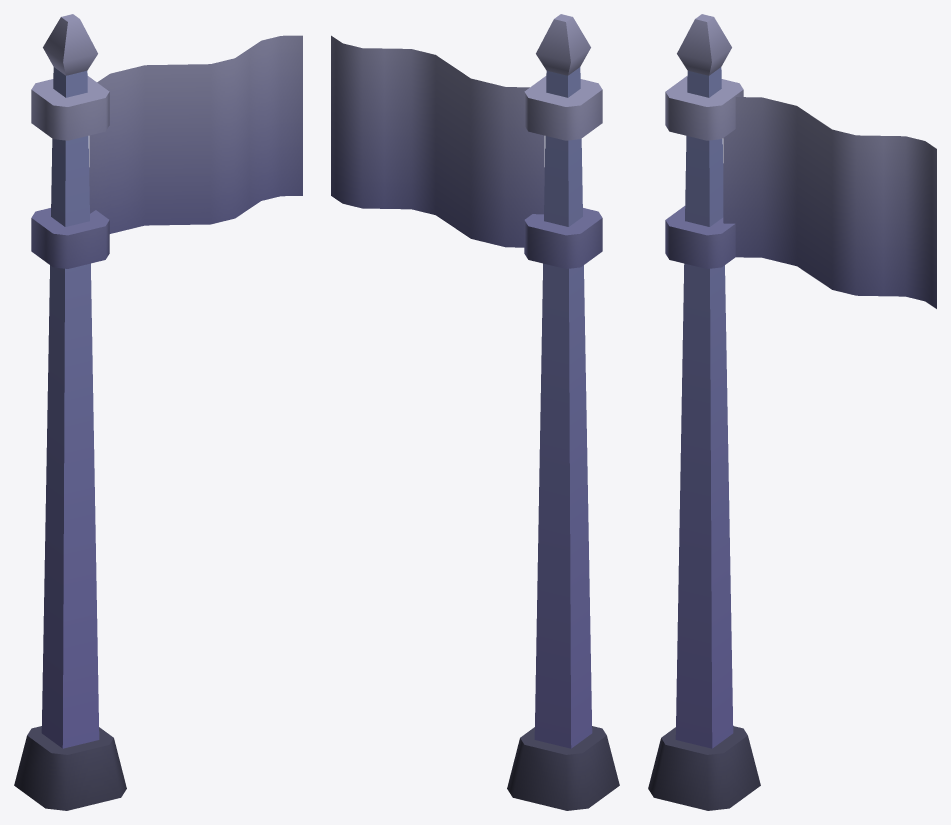
File: flag-pirate-high.fbx
3 views of the same model, side by side, from view 1: azimuth 30°, elevation 25°; view 2: azimuth 150°, elevation 25°; view 3: azimuth 330°, elevation 25° (orthographic).
Visible parts, largest first — view 1: flag-pirate-high; view 2: flag-pirate-high; view 3: flag-pirate-high.
Part boxes in pixels (left/top/right/bottom): flag-pirate-high: left=14, top=14, right=302, bottom=810; flag-pirate-high: left=331, top=14, right=619, bottom=810; flag-pirate-high: left=648, top=14, right=936, bottom=810.
Bounding box in the file's own units: 134 × 360 × 39.89.
